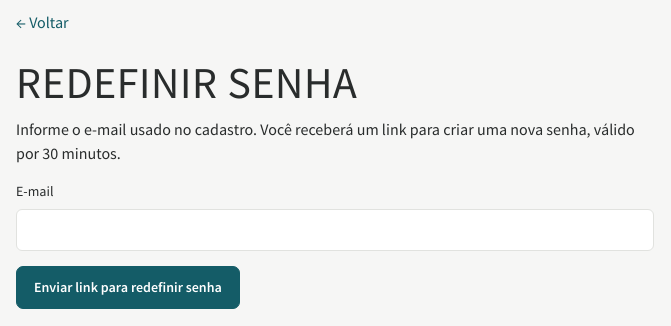
Scenario: Redefinir senha › solicita o link de redefinição para o e-mail informado
The width and height of the screenshot is (671, 326).
Later steps or results of the test are not shown.
Type "candidato@example.com" into the field labelled "E-mail".
click(335, 230); type("candidato@example.com")  # box [16,208,654,250]
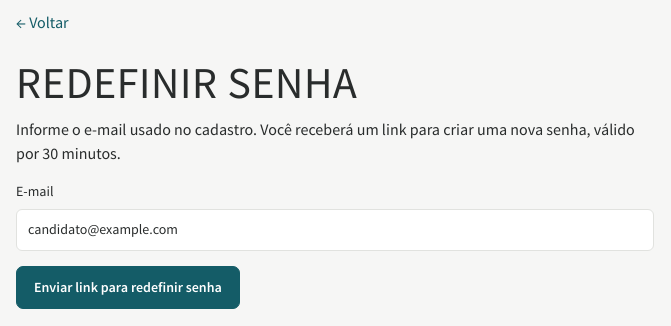
Click the button "Enviar link para redefinir senha".
click(128, 287)  # box [16,266,240,308]
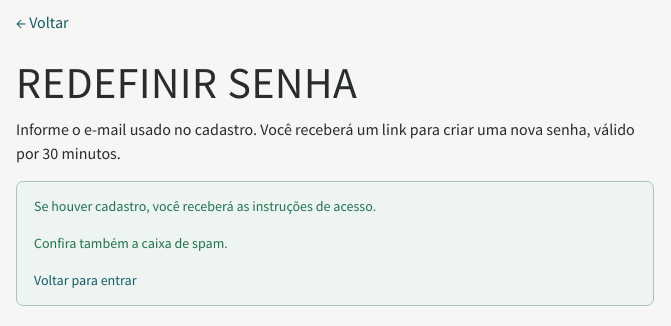
expect the message shows "Se houver cadastro": met, box [34,196,376,214]
